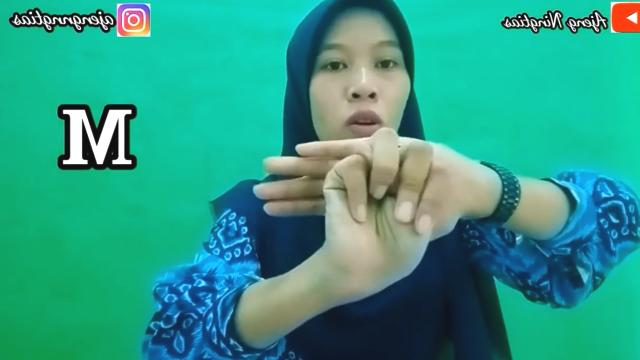M: (324, 128, 456, 290)
